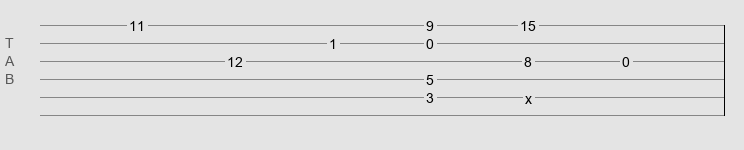0: (426, 36, 434, 46), (622, 54, 630, 64)
1: (329, 36, 337, 46)
11: (129, 18, 145, 28)
12: (227, 54, 243, 64)
15: (520, 18, 536, 28)
3: (426, 90, 434, 100)
5: (426, 72, 434, 82)
8: (524, 54, 532, 64)
9: (426, 18, 434, 28)
x: (525, 91, 532, 99)
